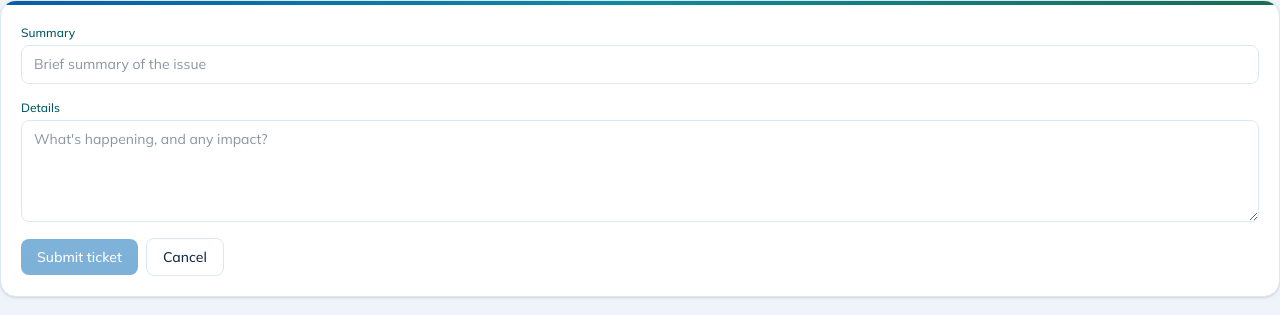
it: RaiseCase › shows the error message when create rejects with an Error
This screenshot has width=1280, height=315.
Step 1. Type "X" into the field with placeholder "Brief summary of the issue" → (640, 64), box left=21, top=45, right=1259, bottom=84
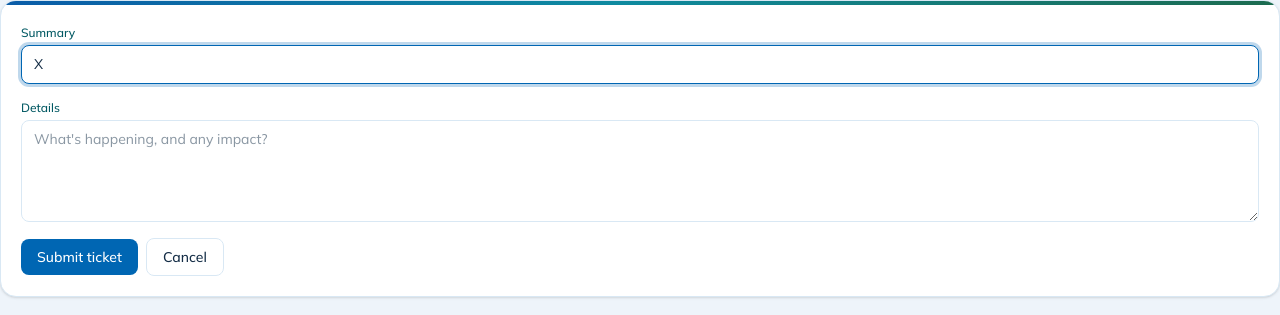
Step 2. Click the button "Submit ticket" → (80, 257), box left=21, top=239, right=138, bottom=275
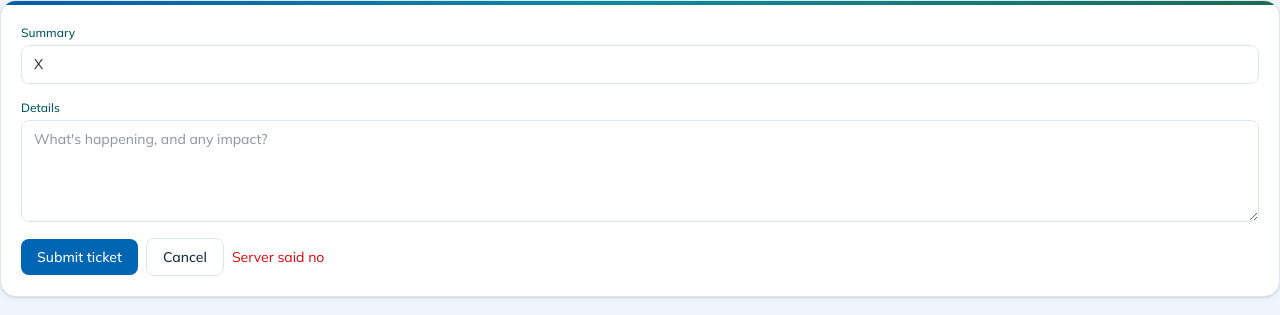
expect the text "Server said no" is shown: met, box left=232, top=247, right=324, bottom=267
